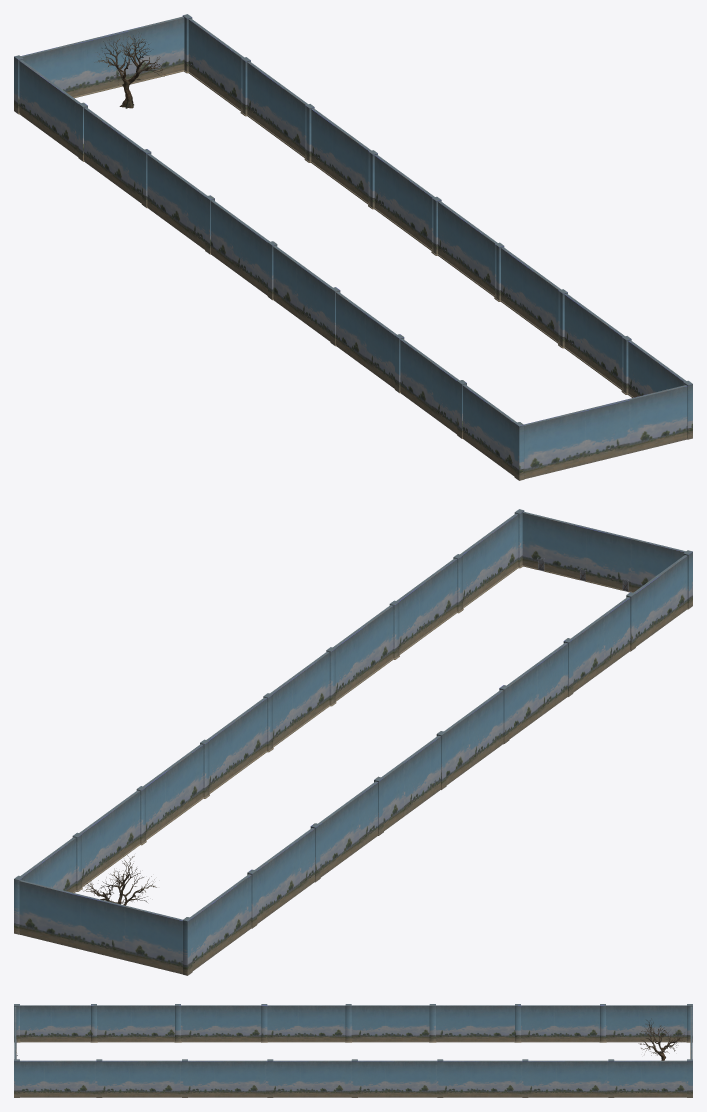
Rendered from Wall.obj.
The picture shows the model from 3 angles, top to bottom: view 1: azimuth 30°, elevation 25°; view 2: azimuth 150°, elevation 25°; view 3: azimuth 270°, elevation 25°; orthographic projection. The views are drawn at different scales.
Visible parts, largest first — view 1: Wall_0191.001_Matériau.001, Tree_Hal_wood_tree01.md_Matériau.002; view 2: Wall_0191.001_Matériau.001; view 3: Wall_0191.001_Matériau.001, Tree_Hal_wood_tree01.md_Matériau.002, Tree_Hal_wood_tree01.md_Matériau.003.
Boxes of the visible parts, x1,y1,x2,y2 form: Wall_0191.001_Matériau.001: [14, 14, 692, 480]; Tree_Hal_wood_tree01.md_Matériau.002: [106, 47, 158, 108]; Wall_0191.001_Matériau.001: [14, 509, 692, 975]; Wall_0191.001_Matériau.001: [14, 1004, 692, 1097]; Tree_Hal_wood_tree01.md_Matériau.002: [643, 1028, 680, 1060]; Tree_Hal_wood_tree01.md_Matériau.003: [638, 1018, 685, 1055].
Bounding box in the file's own units: 19.85 × 8.96 × 99.96.
Materials: 3 (3 with a texture image).
